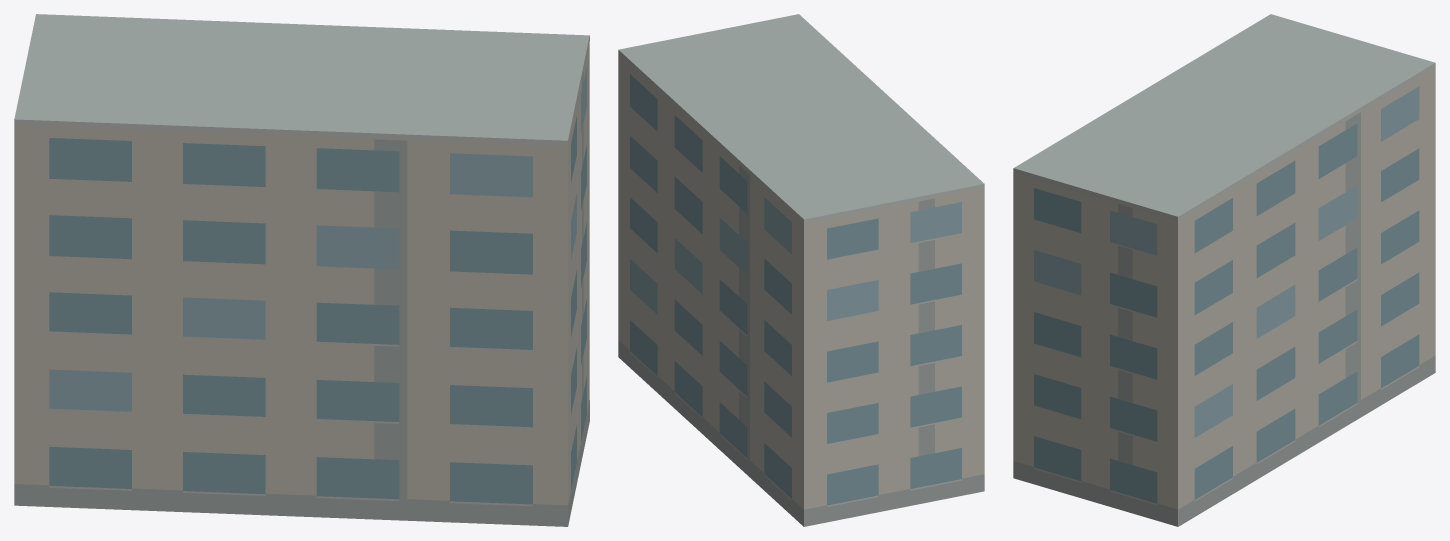
File: survey-upis-32779941.glb
The picture shows the model from 3 angles, left to right: view 1: azimuth 30°, elevation 25°; view 2: azimuth 150°, elevation 25°; view 3: azimuth 270°, elevation 25°; orthographic projection. The views are drawn at different scales.
Parts seen in each view (by area): view 1: survey-upis-32779941.tmp; view 2: survey-upis-32779941.tmp; view 3: survey-upis-32779941.tmp.
Part boxes in pixels (left/top/right/bottom): survey-upis-32779941.tmp: left=14, top=14, right=589, bottom=526; survey-upis-32779941.tmp: left=618, top=14, right=984, bottom=526; survey-upis-32779941.tmp: left=1013, top=14, right=1435, bottom=526.
Size of the model in its own units: 21.75 by 15.5 by 19.13.
